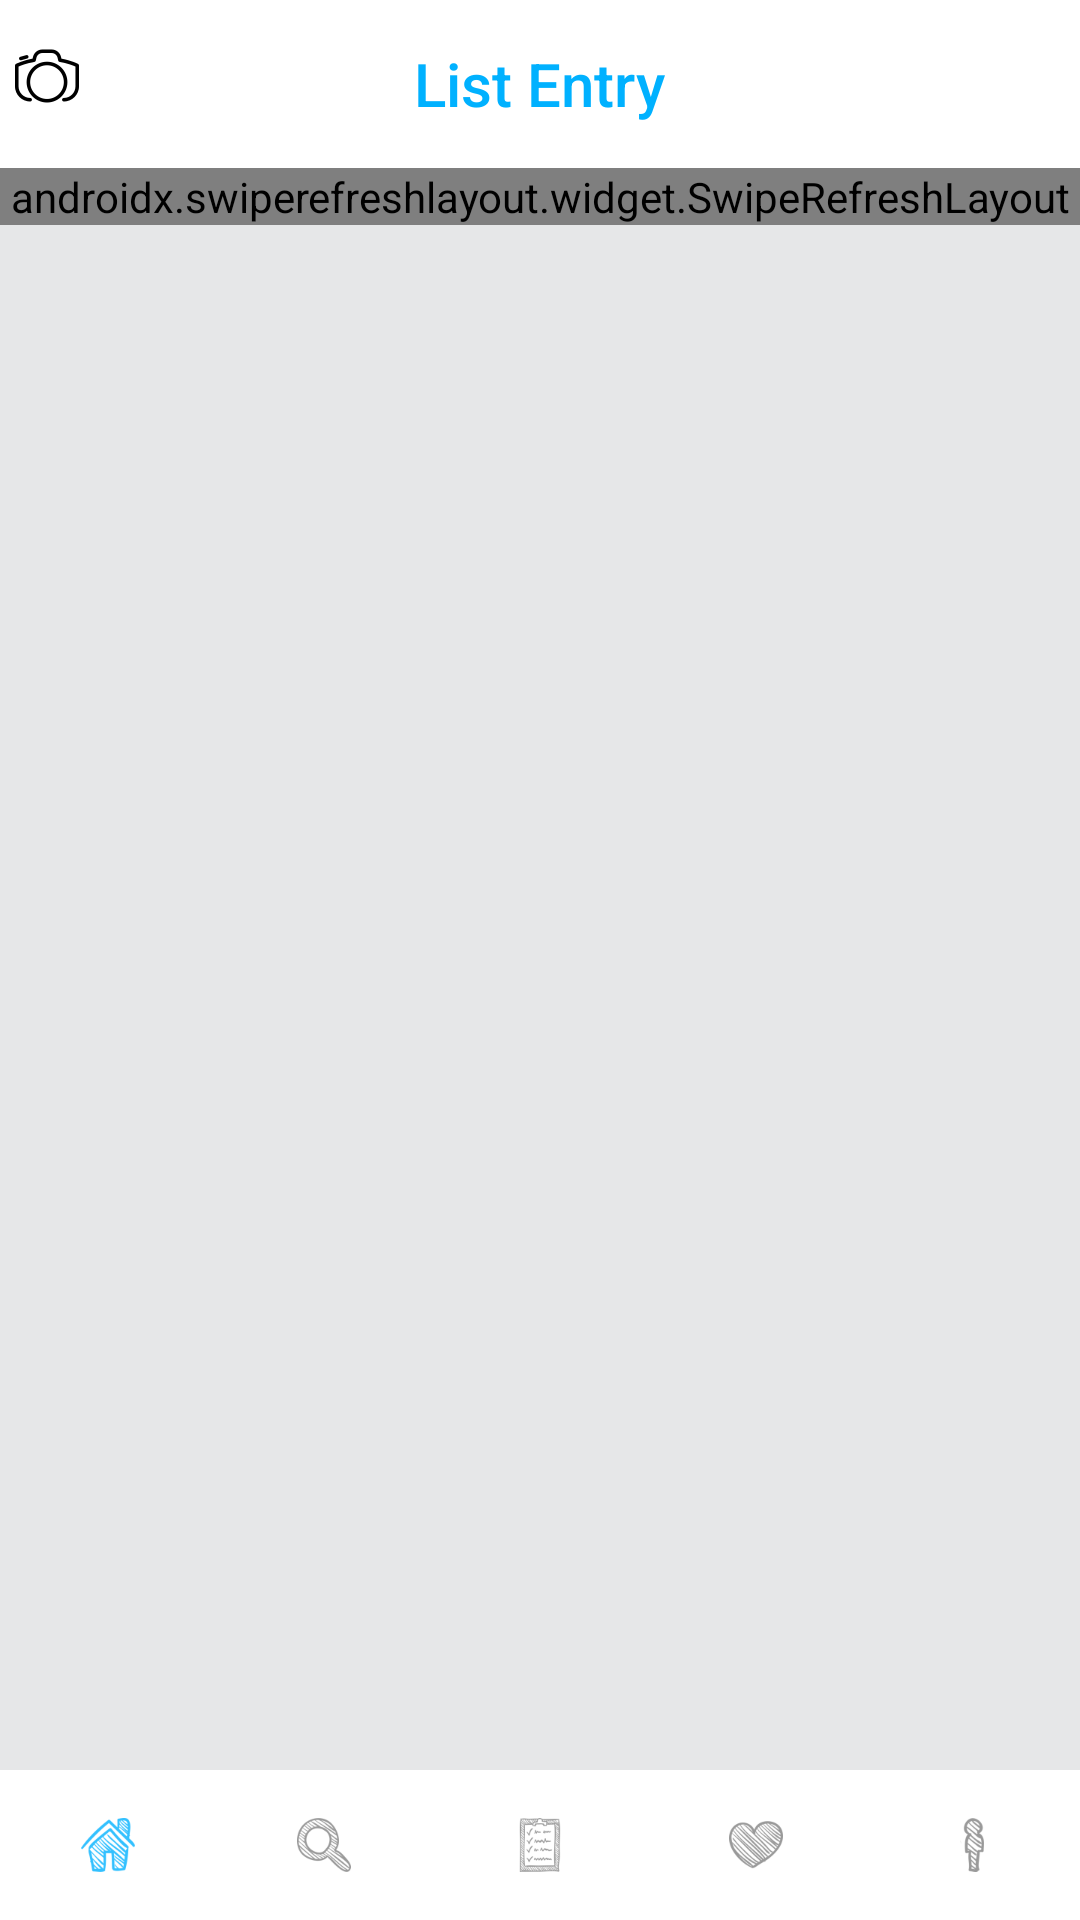

Where to tap for icons on this 1080×1920 app screen, as [x,y]:
camera: [47,76]
